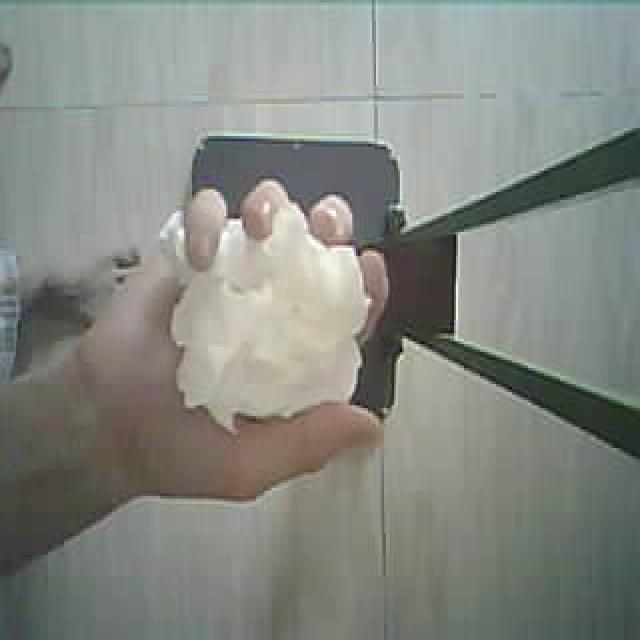Paper: (122, 123, 429, 446)
